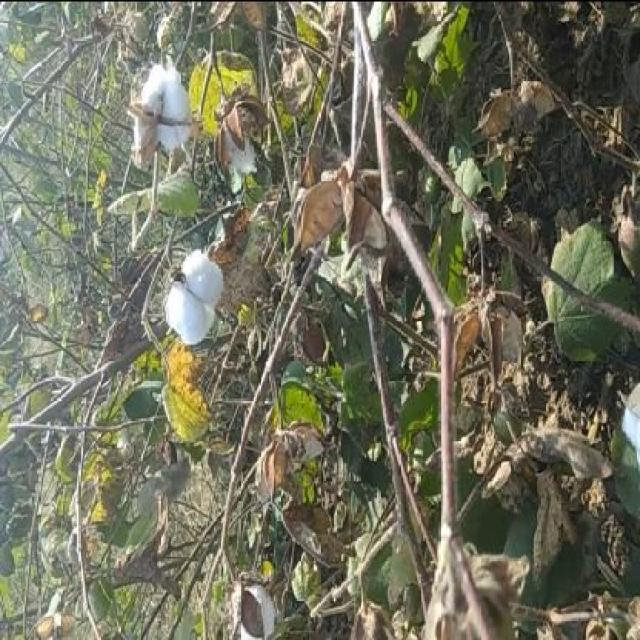cotton_ready: (160, 225, 240, 366), (121, 62, 208, 178)
